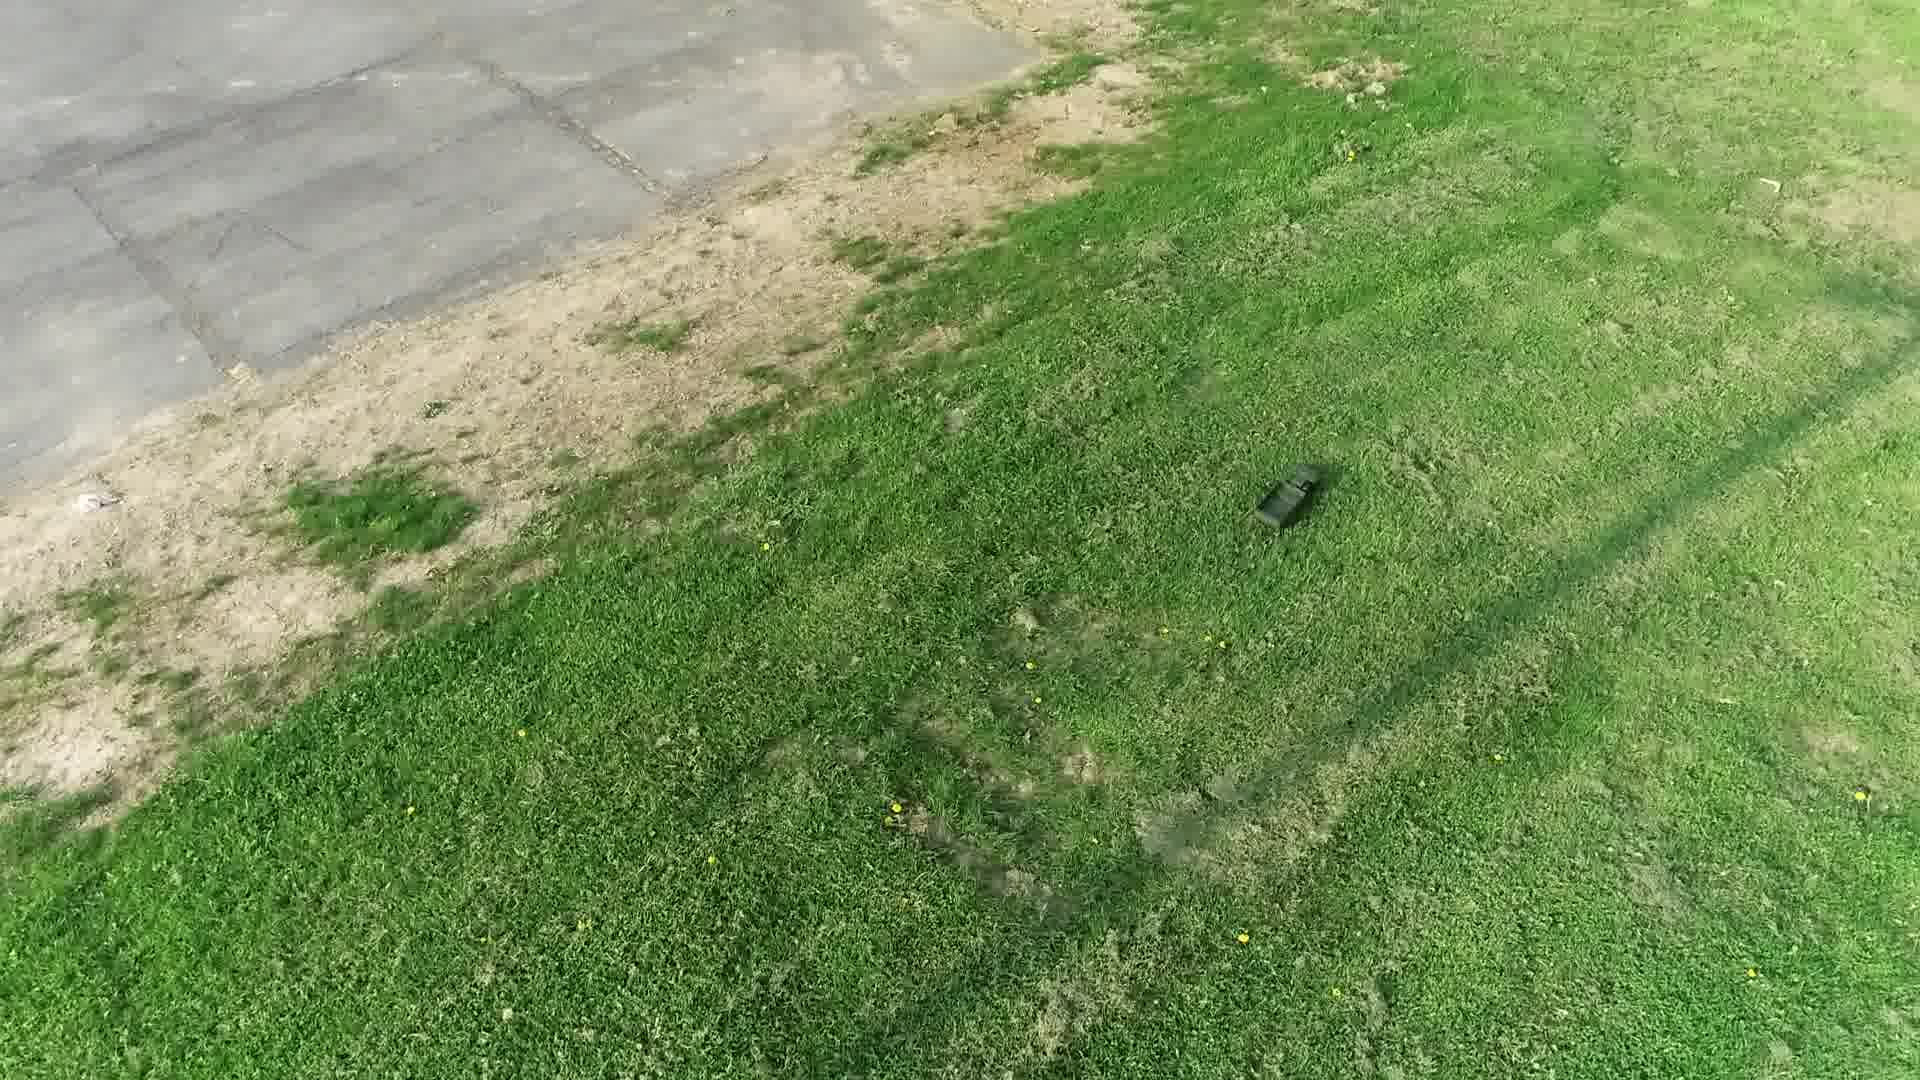transporter9: (1246, 465, 1320, 535)
